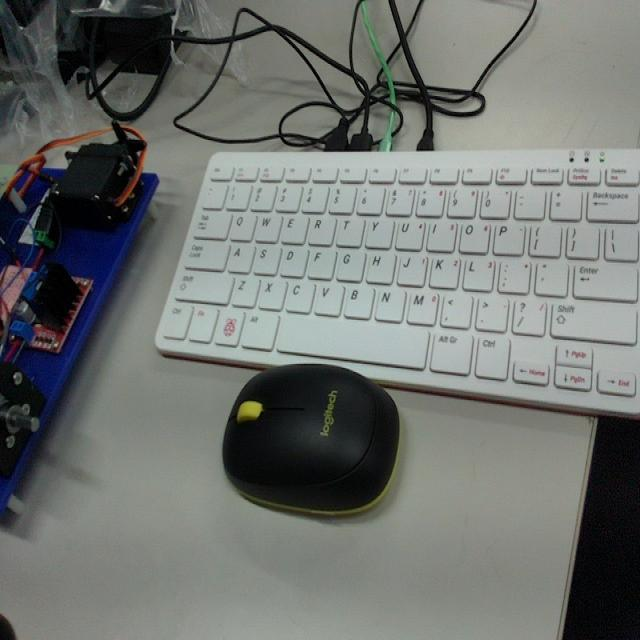keyboard: (158, 156, 640, 407)
